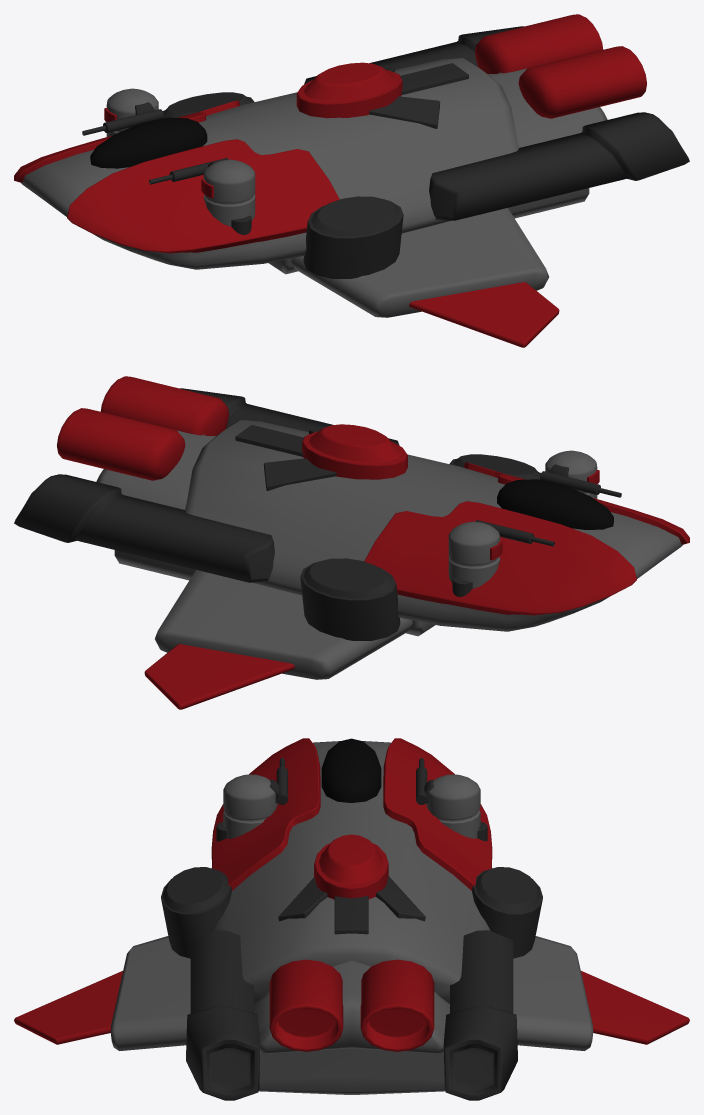
Rendered from Corvette_01.fbx.
The picture shows the model from 3 angles, top to bottom: view 1: azimuth 30°, elevation 25°; view 2: azimuth 150°, elevation 25°; view 3: azimuth 270°, elevation 25°; orthographic projection. The views are drawn at different scales.
Parts seen in each view (by area): view 1: Corvette_01; view 2: Corvette_01; view 3: Corvette_01.
Boxes of the visible parts, box(x1,y1,x2,y2) form: Corvette_01: box(14, 14, 689, 347); Corvette_01: box(14, 376, 689, 709); Corvette_01: box(14, 738, 689, 1100).
Size of the model in its own units: 2068 by 550 by 2001.
